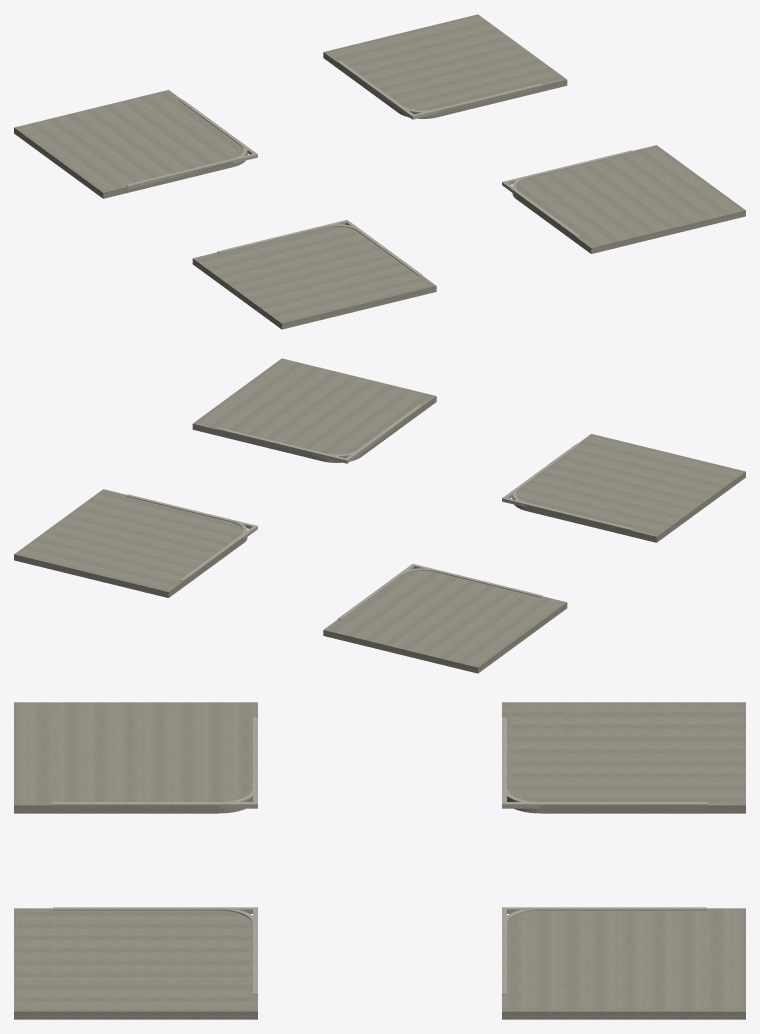
File: PZ_FourWay_Curb_Sidewalk_Corners.glb
The picture shows the model from 3 angles, top to bottom: view 1: azimuth 30°, elevation 25°; view 2: azimuth 150°, elevation 25°; view 3: azimuth 270°, elevation 25°; orthographic projection. The views are drawn at different scales.
Parts seen in each view (by area): view 1: PZ_SIDEWALK_SW_8mCorner, PZ_SIDEWALK_SE_8mCorner, PZ_SIDEWALK_NW_8mCorner, PZ_SIDEWALK_NE_8mCorner, PZ_CURB_NE_SouthEdge, PZ_CURB_NW_WestEdge; view 2: PZ_SIDEWALK_NW_8mCorner, PZ_SIDEWALK_NE_8mCorner, PZ_SIDEWALK_SW_8mCorner, PZ_SIDEWALK_SE_8mCorner, PZ_CURB_SE_WestEdge; view 3: PZ_SIDEWALK_NE_8mCorner, PZ_SIDEWALK_SE_8mCorner, PZ_SIDEWALK_NW_8mCorner, PZ_SIDEWALK_SW_8mCorner, PZ_CURB_SW_WestEdge, PZ_CURB_NW_SouthEdge, PZ_CURB_NE_WestEdge, PZ_CURB_SE_SouthEdge.
Boxes of the visible parts, bbox=[...] form: PZ_SIDEWALK_SW_8mCorner: bbox=[192, 226, 436, 329]; PZ_SIDEWALK_SE_8mCorner: bbox=[512, 145, 745, 253]; PZ_SIDEWALK_NW_8mCorner: bbox=[14, 90, 247, 198]; PZ_SIDEWALK_NE_8mCorner: bbox=[323, 14, 567, 118]; PZ_CURB_NE_SouthEdge: bbox=[412, 83, 542, 118]; PZ_CURB_NW_WestEdge: bbox=[126, 154, 257, 188]; PZ_SIDEWALK_NW_8mCorner: bbox=[323, 570, 567, 673]; PZ_SIDEWALK_NE_8mCorner: bbox=[14, 489, 247, 597]; PZ_SIDEWALK_SW_8mCorner: bbox=[512, 434, 745, 542]; PZ_SIDEWALK_SE_8mCorner: bbox=[192, 358, 436, 462]; PZ_CURB_SE_WestEdge: bbox=[217, 427, 348, 463]; PZ_SIDEWALK_NE_8mCorner: bbox=[502, 908, 745, 1019]; PZ_SIDEWALK_SE_8mCorner: bbox=[14, 908, 257, 1019]; PZ_SIDEWALK_NW_8mCorner: bbox=[502, 702, 745, 813]; PZ_SIDEWALK_SW_8mCorner: bbox=[14, 702, 257, 813]; PZ_CURB_SW_WestEdge: bbox=[53, 802, 257, 808]; PZ_CURB_NW_SouthEdge: bbox=[502, 802, 706, 808]; PZ_CURB_NE_WestEdge: bbox=[502, 907, 706, 913]; PZ_CURB_SE_SouthEdge: bbox=[53, 907, 252, 913].
Size of the model in its own units: 24 by 0.337 by 24.
2 materials, 2 textured.
